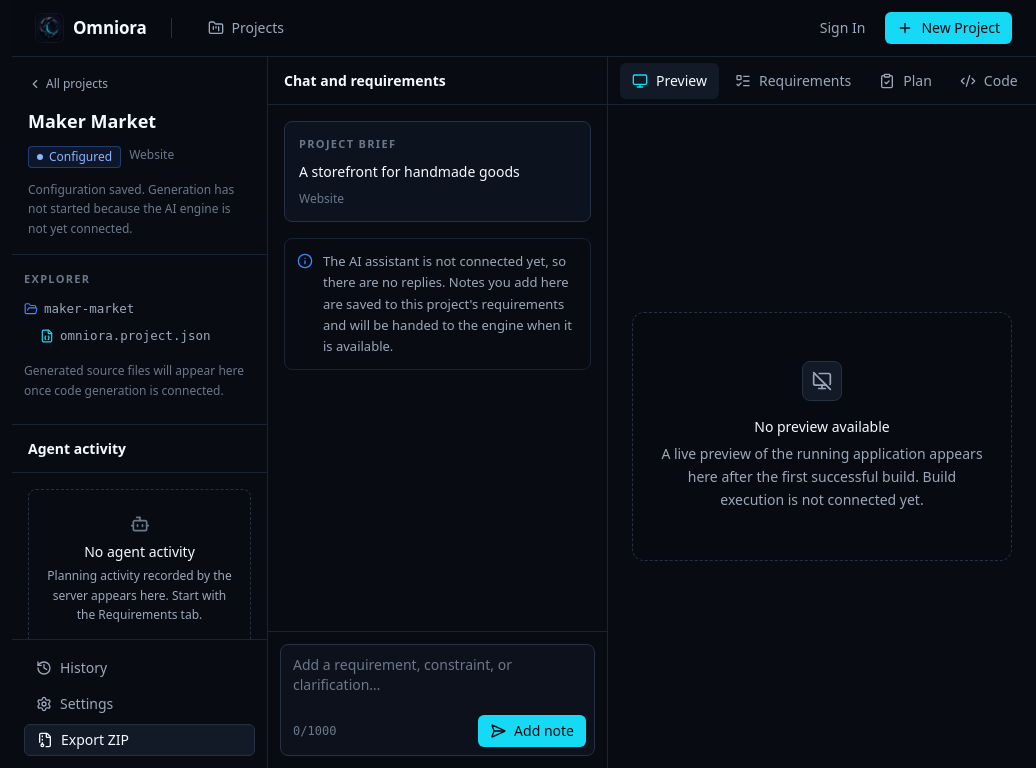
it: Requirements tab › starts a session and shows analysing only while the server reports a queued turn
What coordinates should you click on to do the following:
click the tab "Requirements"
I would click on:
 (793, 80)
Its box is [723,62,863,98].
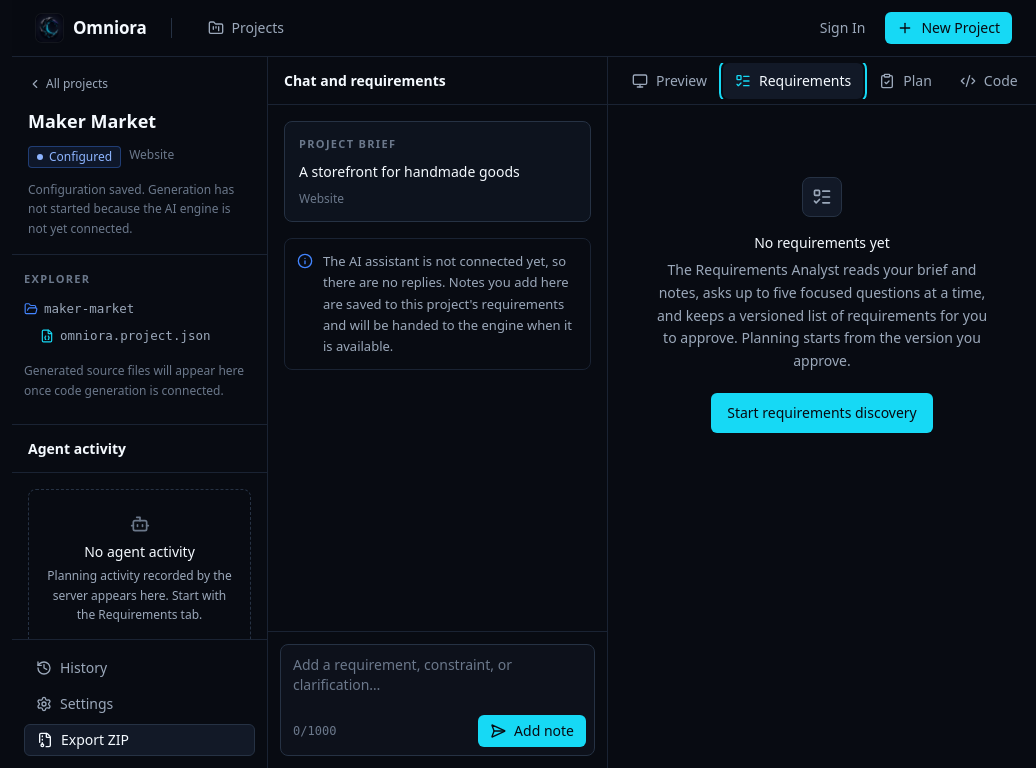
Expected: the text "No requirements yet" is shown, [754,233,890,253]
What coordinates should you click on to do the following:
click the button "Start requirements discovery"
I would click on:
 (822, 413)
Its box is [711,393,933,433].
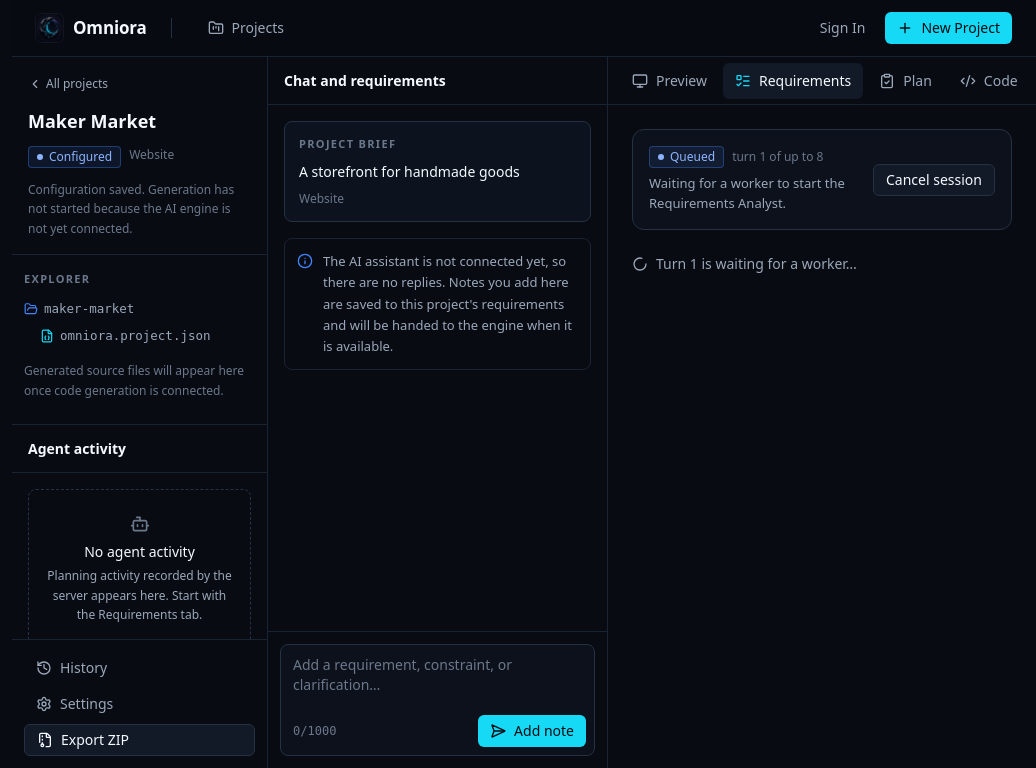
Expected: the text "Turn 1 is waiting for a worker…" is shown, [632,254,857,273]
